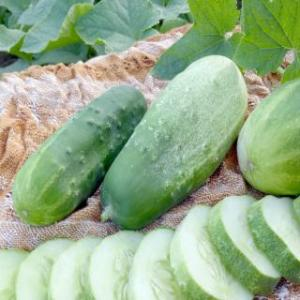cucumber: (97, 52, 251, 226), (12, 84, 146, 228), (232, 76, 300, 196)
